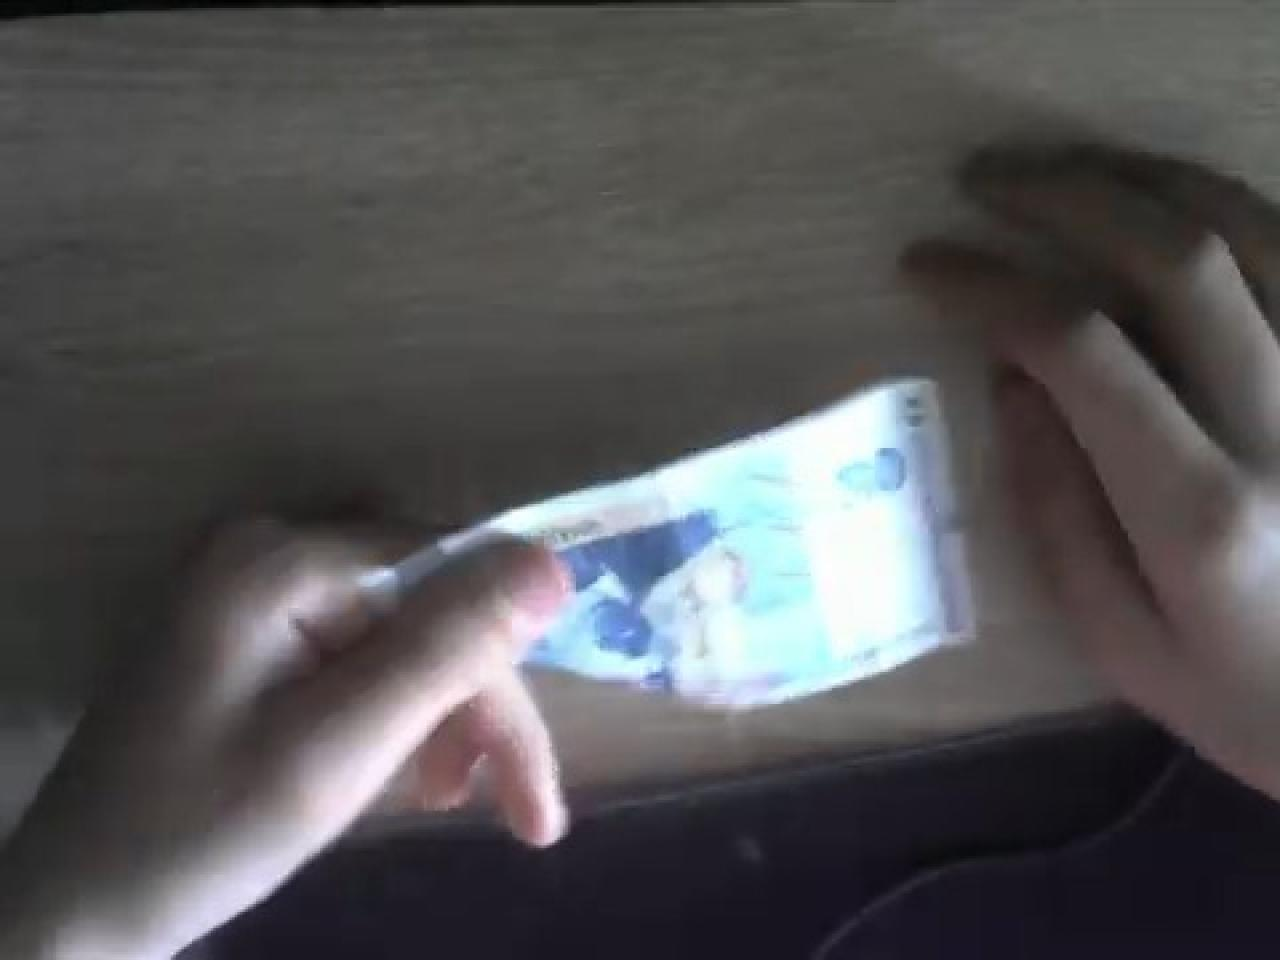20leva: (368, 371, 982, 717)
